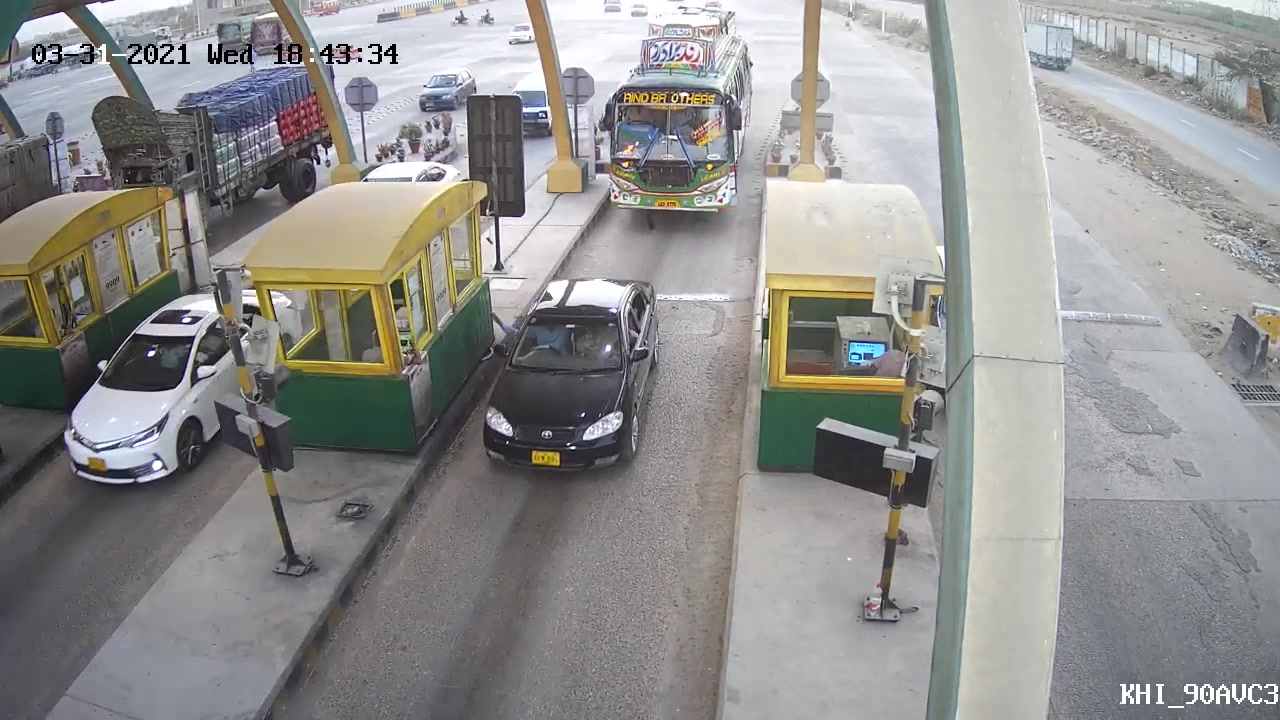F1: (465, 268, 678, 493)
F4: (592, 22, 764, 223)
